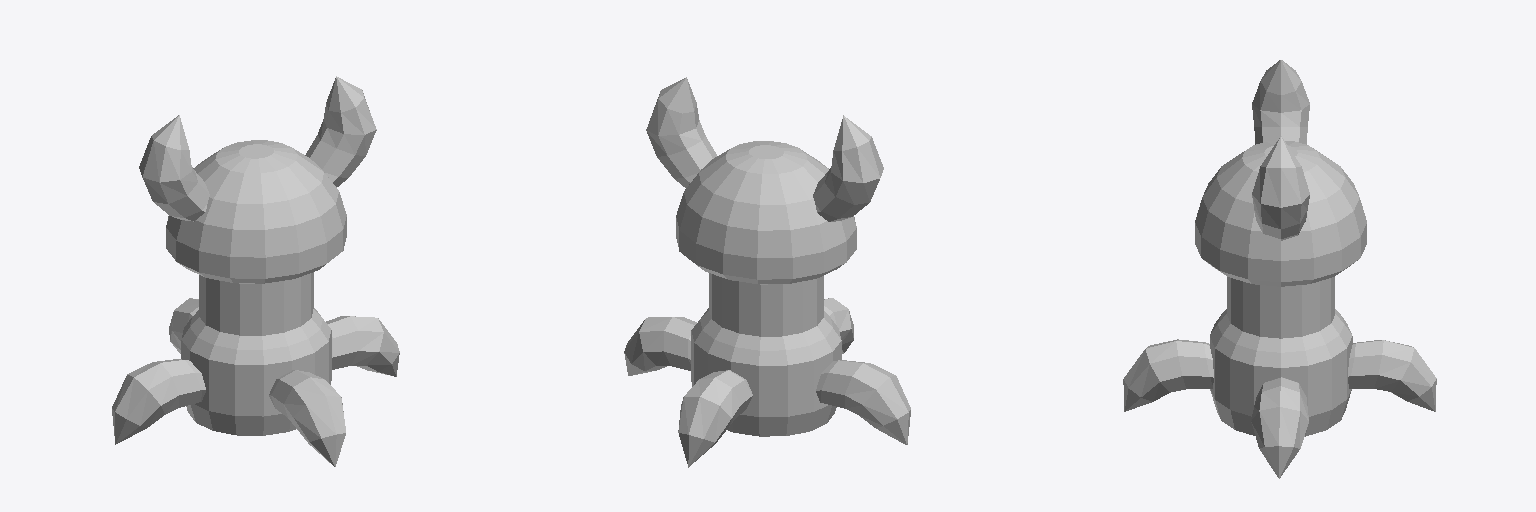
Rendered from basic.obj.
The picture shows the model from 3 angles: view 1: azimuth 30°, elevation 25°; view 2: azimuth 150°, elevation 25°; view 3: azimuth 270°, elevation 25°; orthographic projection.
Parts seen in each view (by area): view 1: Cylinder, x.003_Cylinder.004, x.001_Cylinder.002, x_Cylinder.001, x.004_Cylinder.005, x.002_Cylinder.003, x.005_Cylinder.006; view 2: Cylinder, x.003_Cylinder.004, x.001_Cylinder.002, x_Cylinder.001, x.005_Cylinder.006, x.002_Cylinder.003, x.004_Cylinder.005; view 3: Cylinder, x.004_Cylinder.005, x.005_Cylinder.006, x_Cylinder.001, x.002_Cylinder.003, x.001_Cylinder.002.
Boxes of the visible parts, x1=… form: Cylinder: x1=166, y1=140, x2=346, y2=435; x.003_Cylinder.004: x1=112, y1=359, x2=205, y2=444; x.001_Cylinder.002: x1=139, y1=115, x2=209, y2=221; x_Cylinder.001: x1=305, y1=76, x2=376, y2=186; x.004_Cylinder.005: x1=269, y1=370, x2=345, y2=466; x.002_Cylinder.003: x1=326, y1=316, x2=399, y2=376; x.005_Cylinder.006: x1=169, y1=298, x2=198, y2=353; Cylinder: x1=676, y1=141, x2=856, y2=436; x.003_Cylinder.004: x1=816, y1=360, x2=910, y2=444; x.001_Cylinder.002: x1=813, y1=115, x2=883, y2=221; x_Cylinder.001: x1=646, y1=77, x2=716, y2=187; x.005_Cylinder.006: x1=678, y1=370, x2=752, y2=467; x.002_Cylinder.003: x1=624, y1=317, x2=696, y2=375; x.004_Cylinder.005: x1=824, y1=298, x2=853, y2=353; Cylinder: x1=1195, y1=141, x2=1366, y2=436; x.004_Cylinder.005: x1=1123, y1=339, x2=1213, y2=411; x.005_Cylinder.006: x1=1348, y1=340, x2=1436, y2=411; x_Cylinder.001: x1=1252, y1=136, x2=1309, y2=240; x.002_Cylinder.003: x1=1251, y1=377, x2=1308, y2=478; x.001_Cylinder.002: x1=1252, y1=60, x2=1309, y2=144.
Bounding box in the file's own units: 5.57 × 6.03 × 5.37.